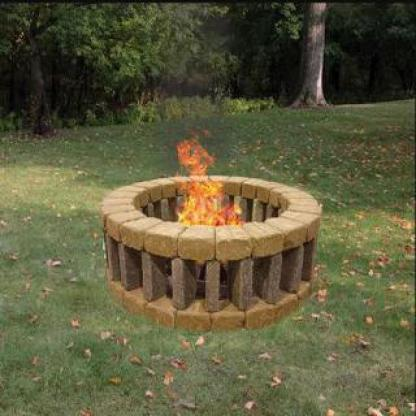Fire: (170, 135, 236, 230)
